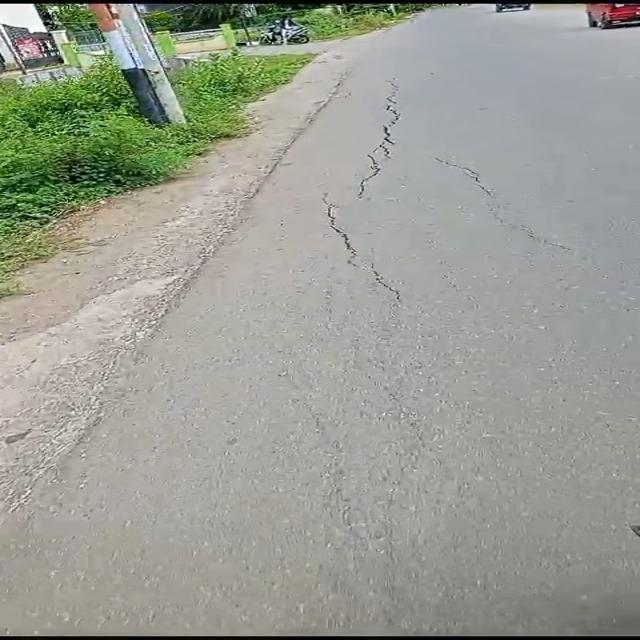Memanjang: (312, 189, 414, 312), (347, 58, 413, 218)
